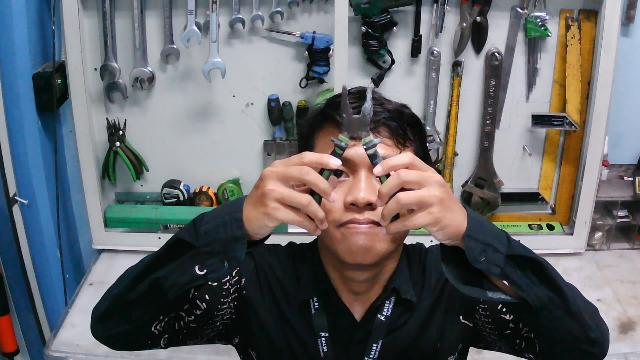tang_kombinasi: (309, 84, 401, 229)
